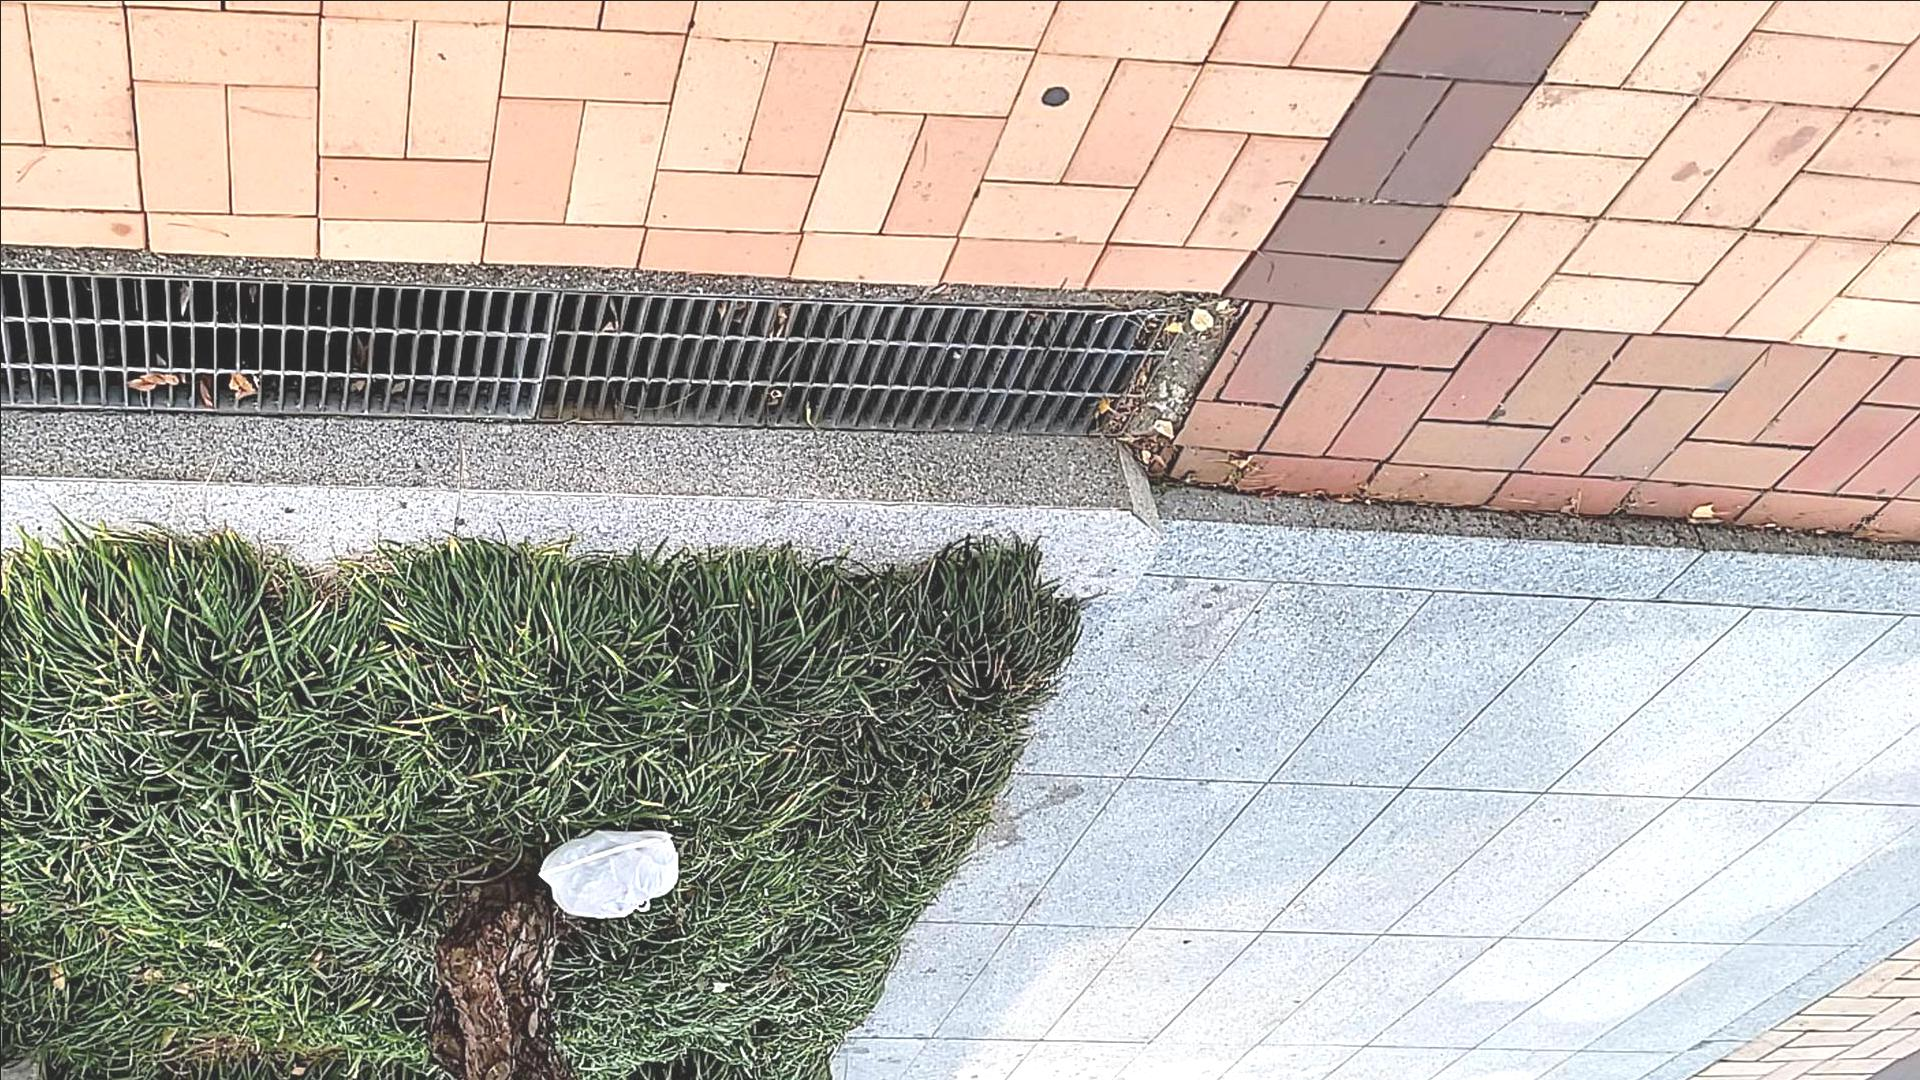white_bag: (533, 811, 696, 922)
